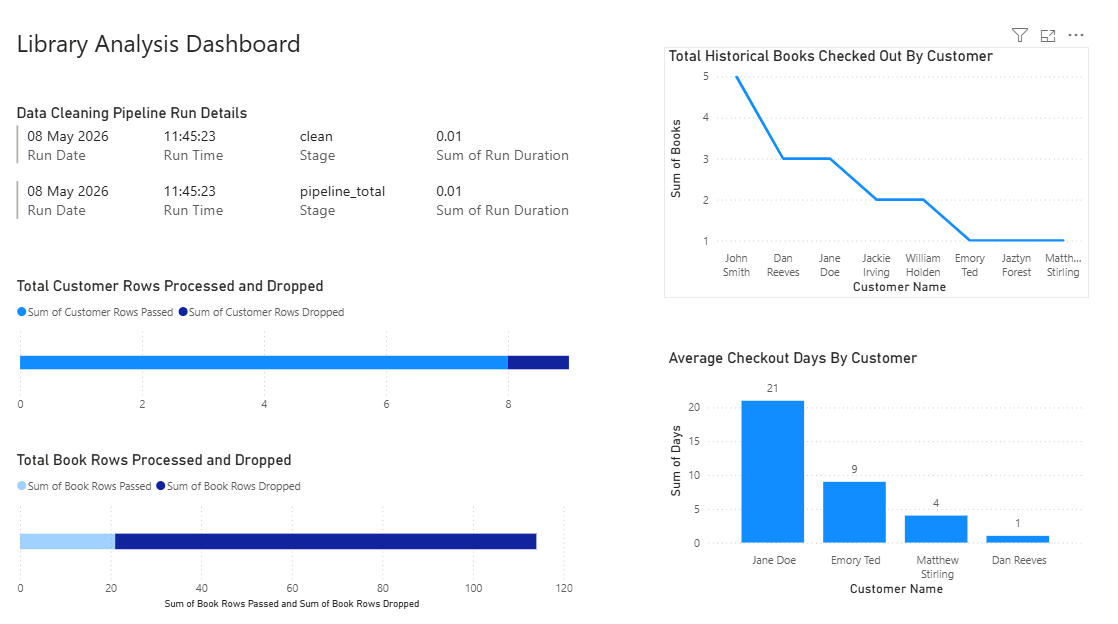

Layout of this report page (visuals, bound fields, positions):
{"tool":"powerbi","page":{"name":"Page 1","canvas":[1280,720],"ordinal":0},"visuals":[{"type":"barChart","title":"Total Customer Rows Processed and Dropped","fields":{"Y":["Sum(metrics.customer_rows_after)","Sum(metrics.customer_rows_dropped)"]},"box":[22.3,323.3,630,160.6],"z":0},{"type":"barChart","title":"Total Book Rows Processed and Dropped","fields":{"Y":["Sum(metrics.book_rows_after)","Sum(metrics.book_rows_dropped)"]},"box":[22.3,517.4,630,180.6],"z":1000},{"type":"lineChart","title":"Total Historical Books Checked Out By Customer","fields":{"Y":["Sum(cleaned_customers_data.total_books)"],"Category":["cleaned_customers_data.Name"]},"box":[749.3,66.9,473.9,279.9],"z":2000},{"type":"clusteredColumnChart","title":"Average Checkout Days By Customer","fields":{"Category":["cleaned_customers_data.Name"],"Y":["Sum(cleaned_customers_data.Avg_Checkout_Days)"]},"box":[749.3,403.6,473.9,279.9],"z":3000},{"type":"multiRowCard","title":"Data Cleaning Pipeline Run Details","fields":{"Values":["metrics.run_date","metrics.run_time","metrics.stage","Sum(metrics.duration_secs)"]},"box":[22.3,130.5,630,153.9],"z":4000},{"type":"textbox","box":[22.3,39,404.7,55.7],"z":4001}]}

Visuals, with their boxes in screenshot pixels (x1, y1, x2, y2), scaled from the page's 1280x720 canvas onto the 1118x624 screenshot:
"Total Customer Rows Processed and Dropped" barChart: box=[19, 280, 570, 419]
"Total Book Rows Processed and Dropped" barChart: box=[19, 448, 570, 605]
"Total Historical Books Checked Out By Customer" lineChart: box=[654, 58, 1068, 301]
"Average Checkout Days By Customer" clusteredColumnChart: box=[654, 350, 1068, 592]
"Data Cleaning Pipeline Run Details" multiRowCard: box=[19, 113, 570, 246]
textbox: box=[19, 34, 373, 82]
